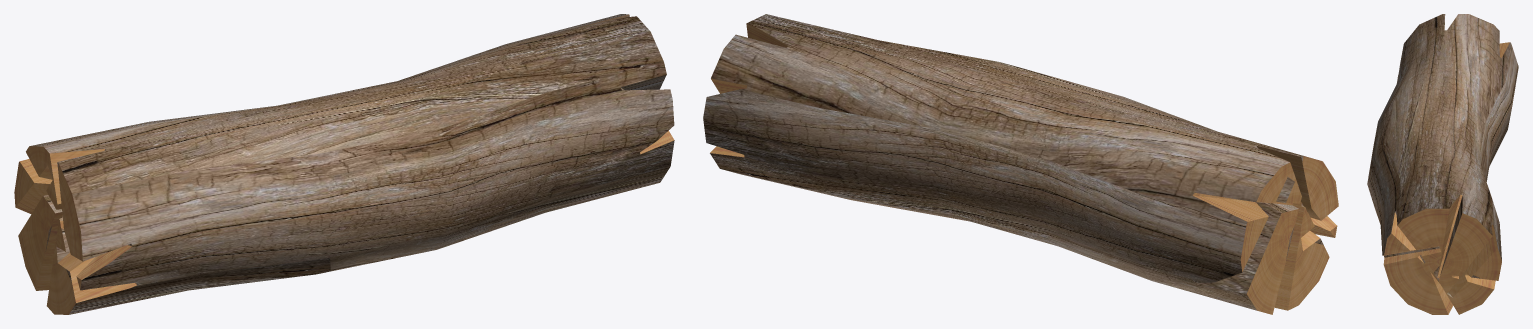
The model's file is woodstump_model.fbx.
3 renders of one model, left to right at view 1: azimuth 30°, elevation 25°; view 2: azimuth 150°, elevation 25°; view 3: azimuth 270°, elevation 25°, orthographic. The views are drawn at different scales.
Parts seen in each view (by area): view 1: pCylinder4; view 2: pCylinder4; view 3: pCylinder4.
Part boxes in pixels (box(x1,y1,x2,y2)): pCylinder4: box(14, 14, 674, 314); pCylinder4: box(703, 14, 1338, 314); pCylinder4: box(1367, 14, 1518, 314).
Size of the model in its own units: 3.35 by 0.8488 by 1.07.
2 materials, 2 textured.
